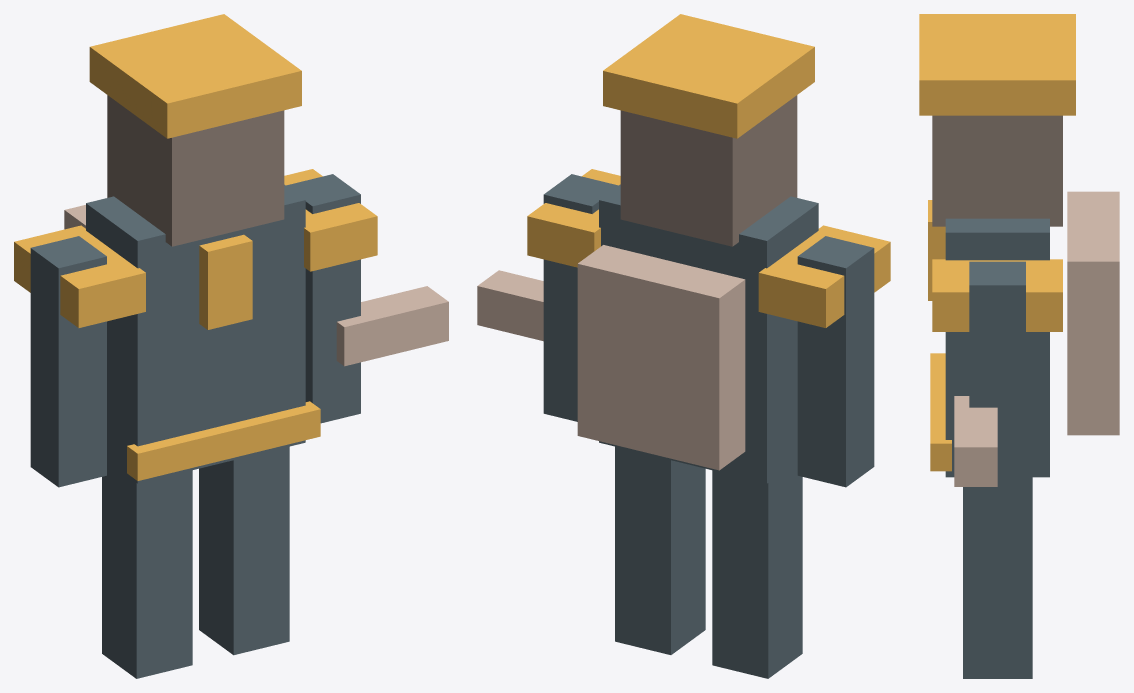
The model's file is 07_isolde_riftwalker_scout_under_observation.glb.
3 views of the same model, side by side, from view 1: azimuth 30°, elevation 25°; view 2: azimuth 150°, elevation 25°; view 3: azimuth 270°, elevation 25° (orthographic).
Parts seen in each view (by area): view 1: Isolde Riftwalker, Scout under Observation; view 2: Isolde Riftwalker, Scout under Observation; view 3: Isolde Riftwalker, Scout under Observation.
Boxes of the visible parts, bbox=[...] form: Isolde Riftwalker, Scout under Observation: bbox=[14, 14, 448, 678]; Isolde Riftwalker, Scout under Observation: bbox=[477, 14, 890, 678]; Isolde Riftwalker, Scout under Observation: bbox=[919, 14, 1119, 678].
Bounding box in the file's own units: 0.9488 × 1.39 × 0.4258.
